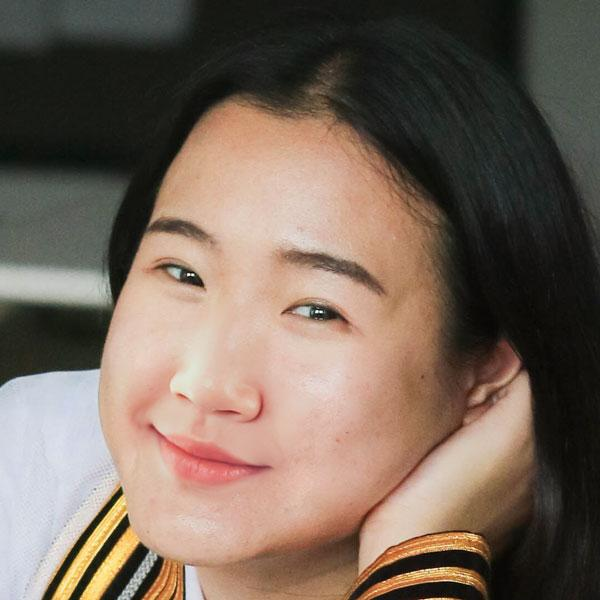Eyes: (270, 285, 355, 336), (142, 245, 211, 297)
